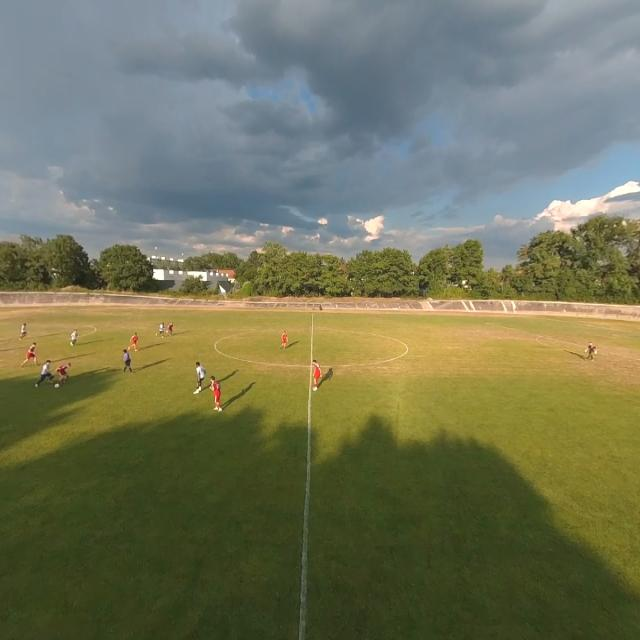ball: (55, 384, 59, 388)
